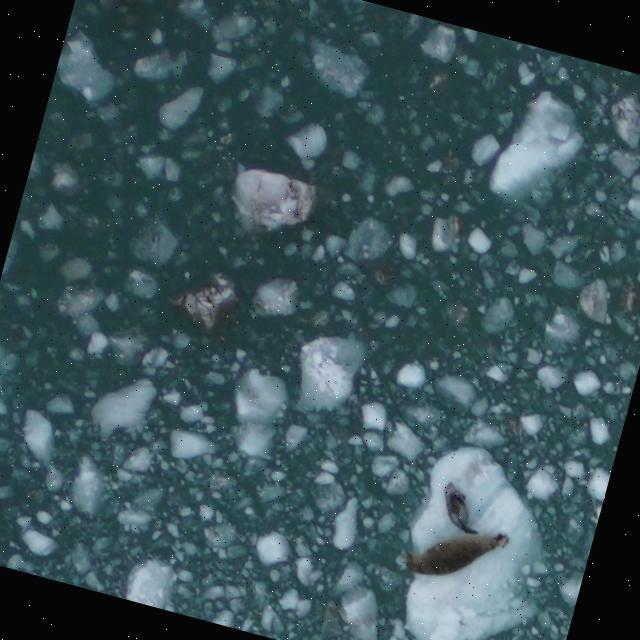seal: (399, 508, 516, 599), (431, 476, 496, 540)
